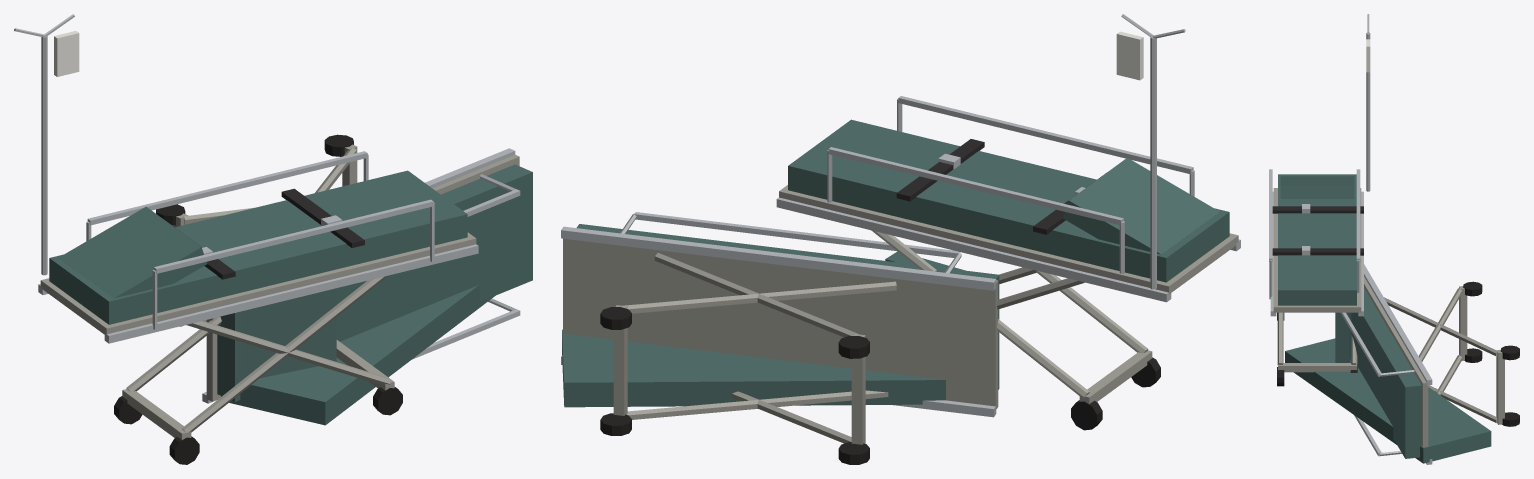
The model's file is lab_gurneys.glb.
The picture shows the model from 3 angles, left to right: view 1: azimuth 30°, elevation 25°; view 2: azimuth 150°, elevation 25°; view 3: azimuth 270°, elevation 25°; orthographic projection. The views are drawn at different scales.
Parts seen in each view (by area): view 1: lab_gurneys; view 2: lab_gurneys; view 3: lab_gurneys.
Part boxes in pixels (x1,y1,x2,y2): lab_gurneys: (14,14,532,464); lab_gurneys: (561,14,1240,464); lab_gurneys: (1269,14,1519,464).
Size of the model in its own units: 2.97 by 2.16 by 1.77.
